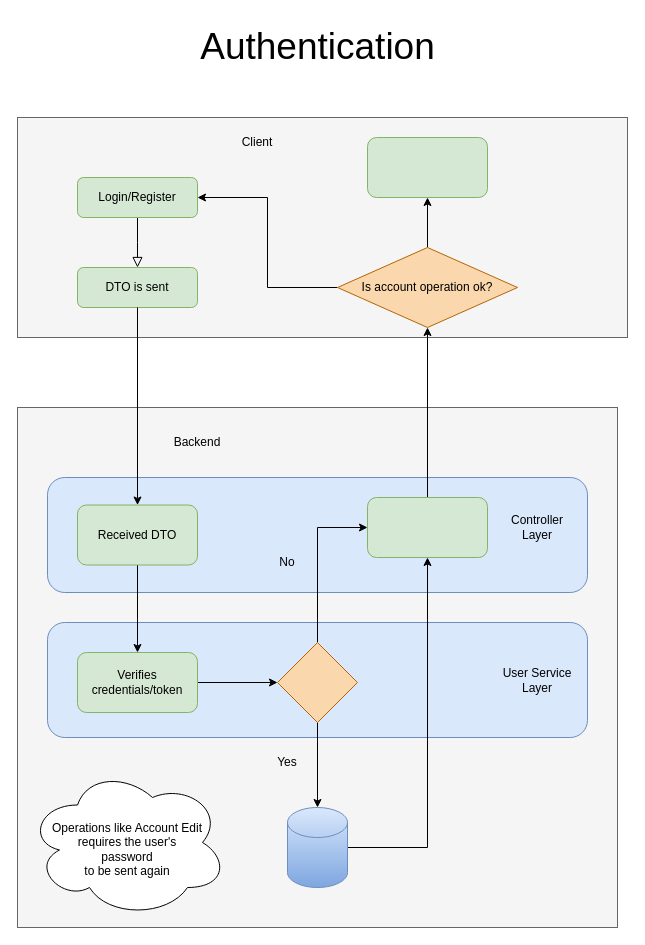
This 645x945 diagram has some shape labels left out. Here are the shapes that lost their labels. From the top down, the box of each, then its label:
(366, 136, 488, 198): Go to Application
(366, 496, 488, 558): Send response
(276, 642, 358, 722): Success?
